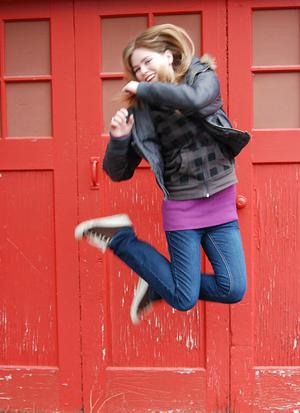person: (77, 25, 250, 326)
